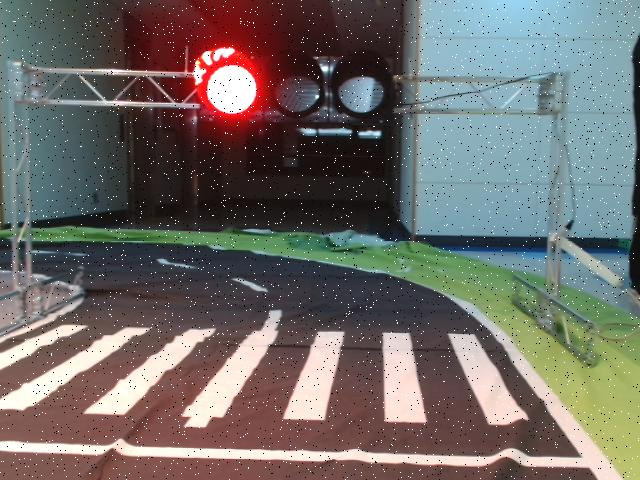crosswalk: (0, 323, 530, 427)
traffic light-red-: (195, 49, 396, 126)
